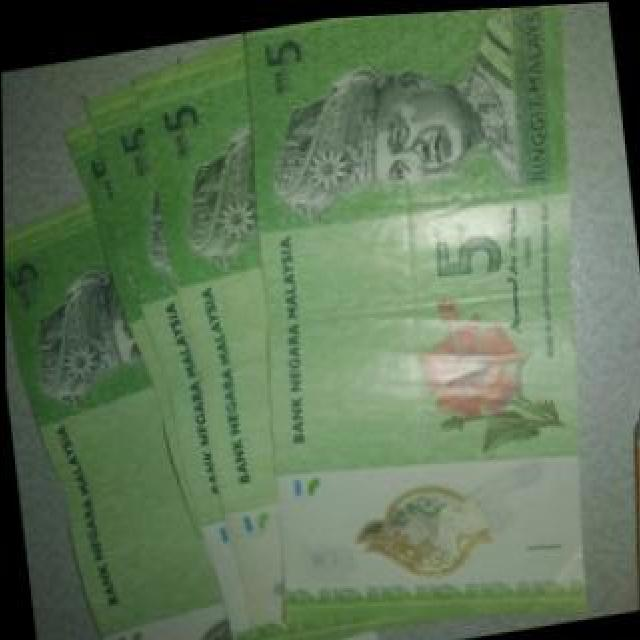5 Ringgit: (224, 2, 612, 640), (2, 182, 238, 640)
